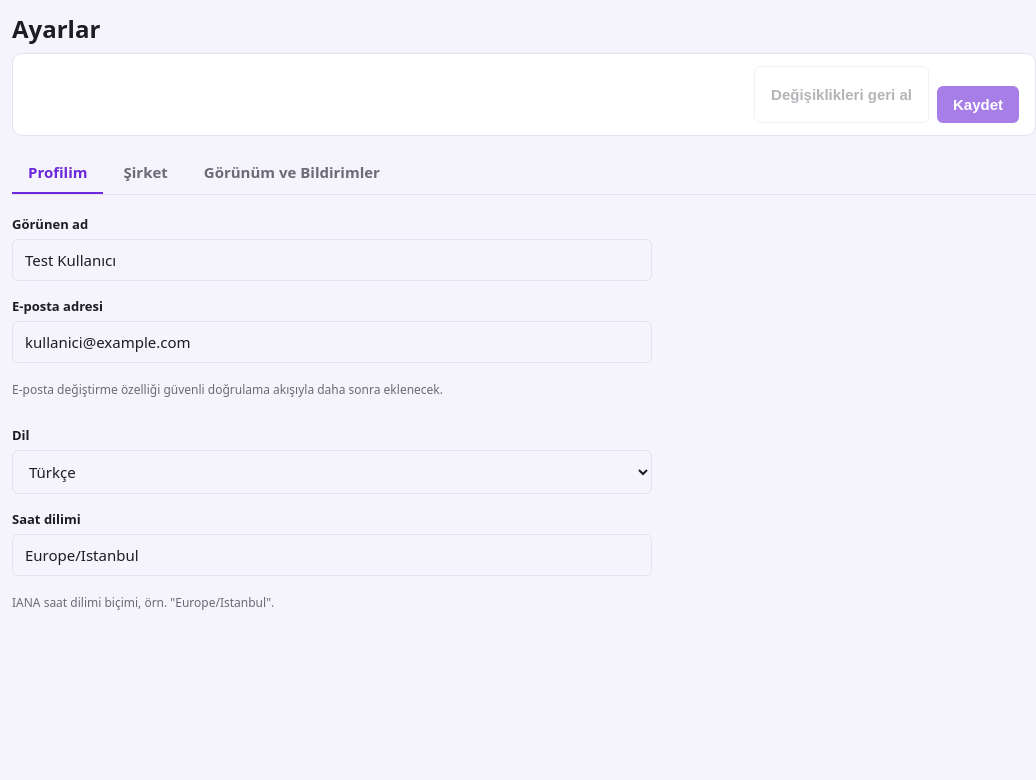
Test case: Settings › görünen ad değiştirildiğinde kaydedilmemiş değişiklik göstergesi belirir ve kaydedince kaybolur
Step 1. Replace the text in the field labelled "Görünen ad" with "Yeni Ad" → (332,260), box left=12, top=239, right=652, bottom=281
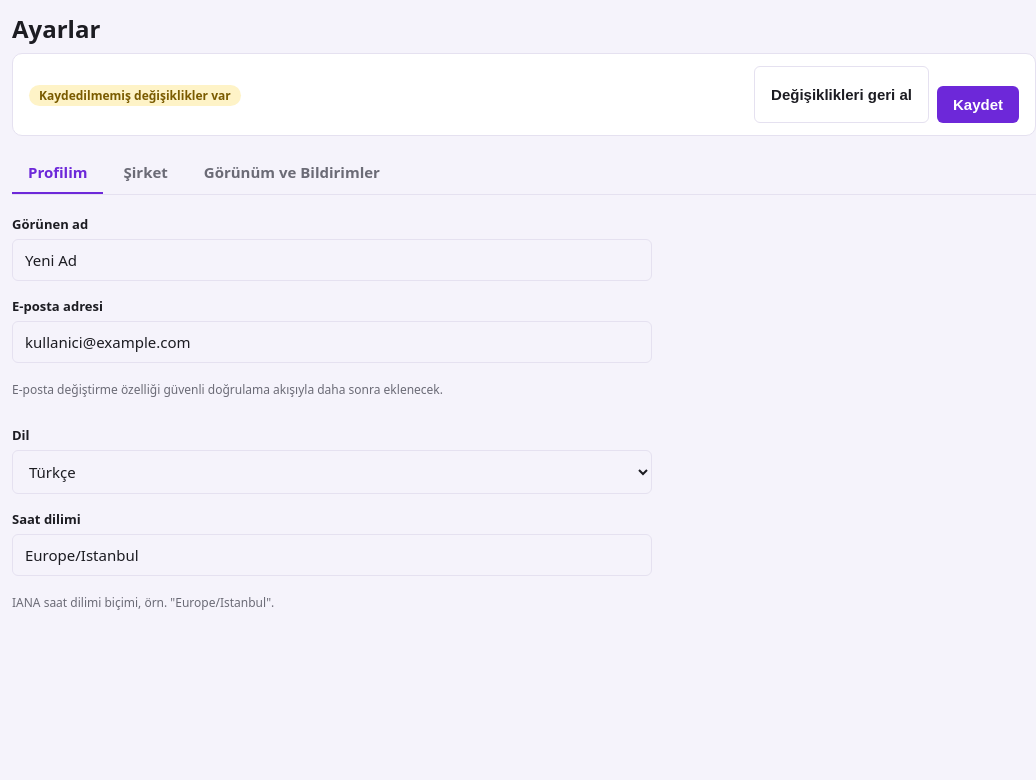
Expected: the text "Kaydedilmemiş değişiklikler var" is shown, left=29, top=85, right=241, bottom=106
Step 2. Click the button "Kaydet" → (978,104), box left=937, top=86, right=1019, bottom=123
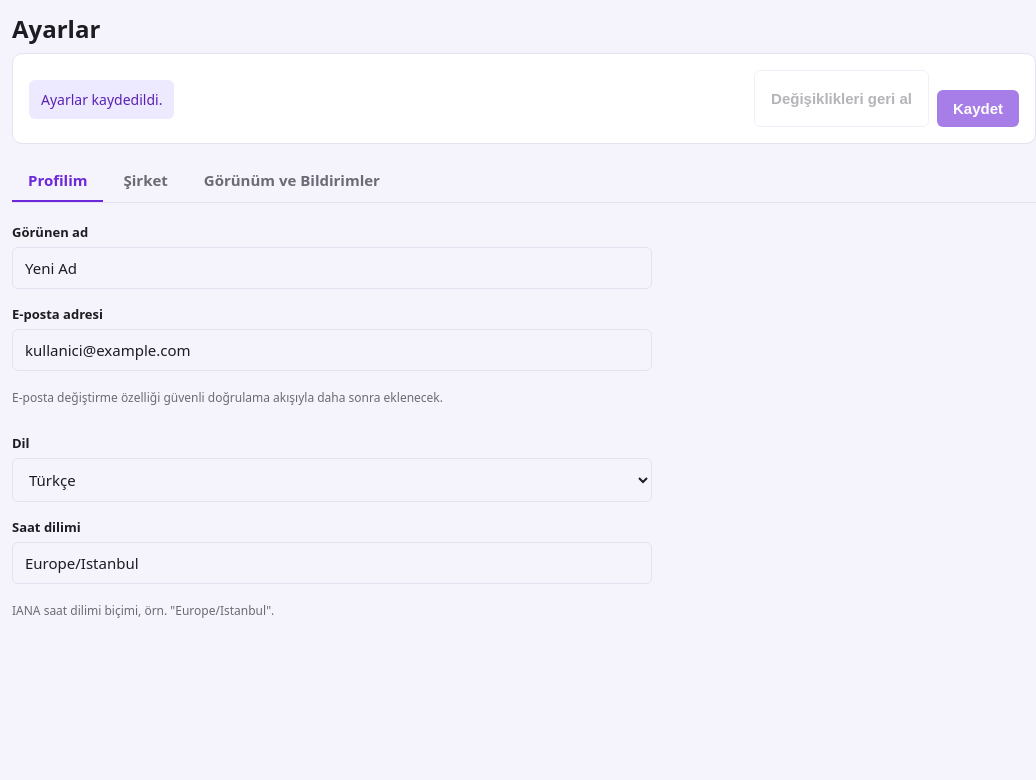
Expected: the text "Ayarlar kaydedildi." is shown, left=29, top=80, right=174, bottom=119
Expected: the text "Kaydedilmemiş değişiklikler var" is gone
